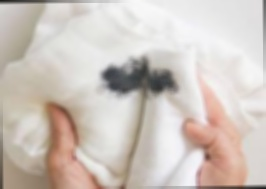ink: (101, 63, 178, 97)
